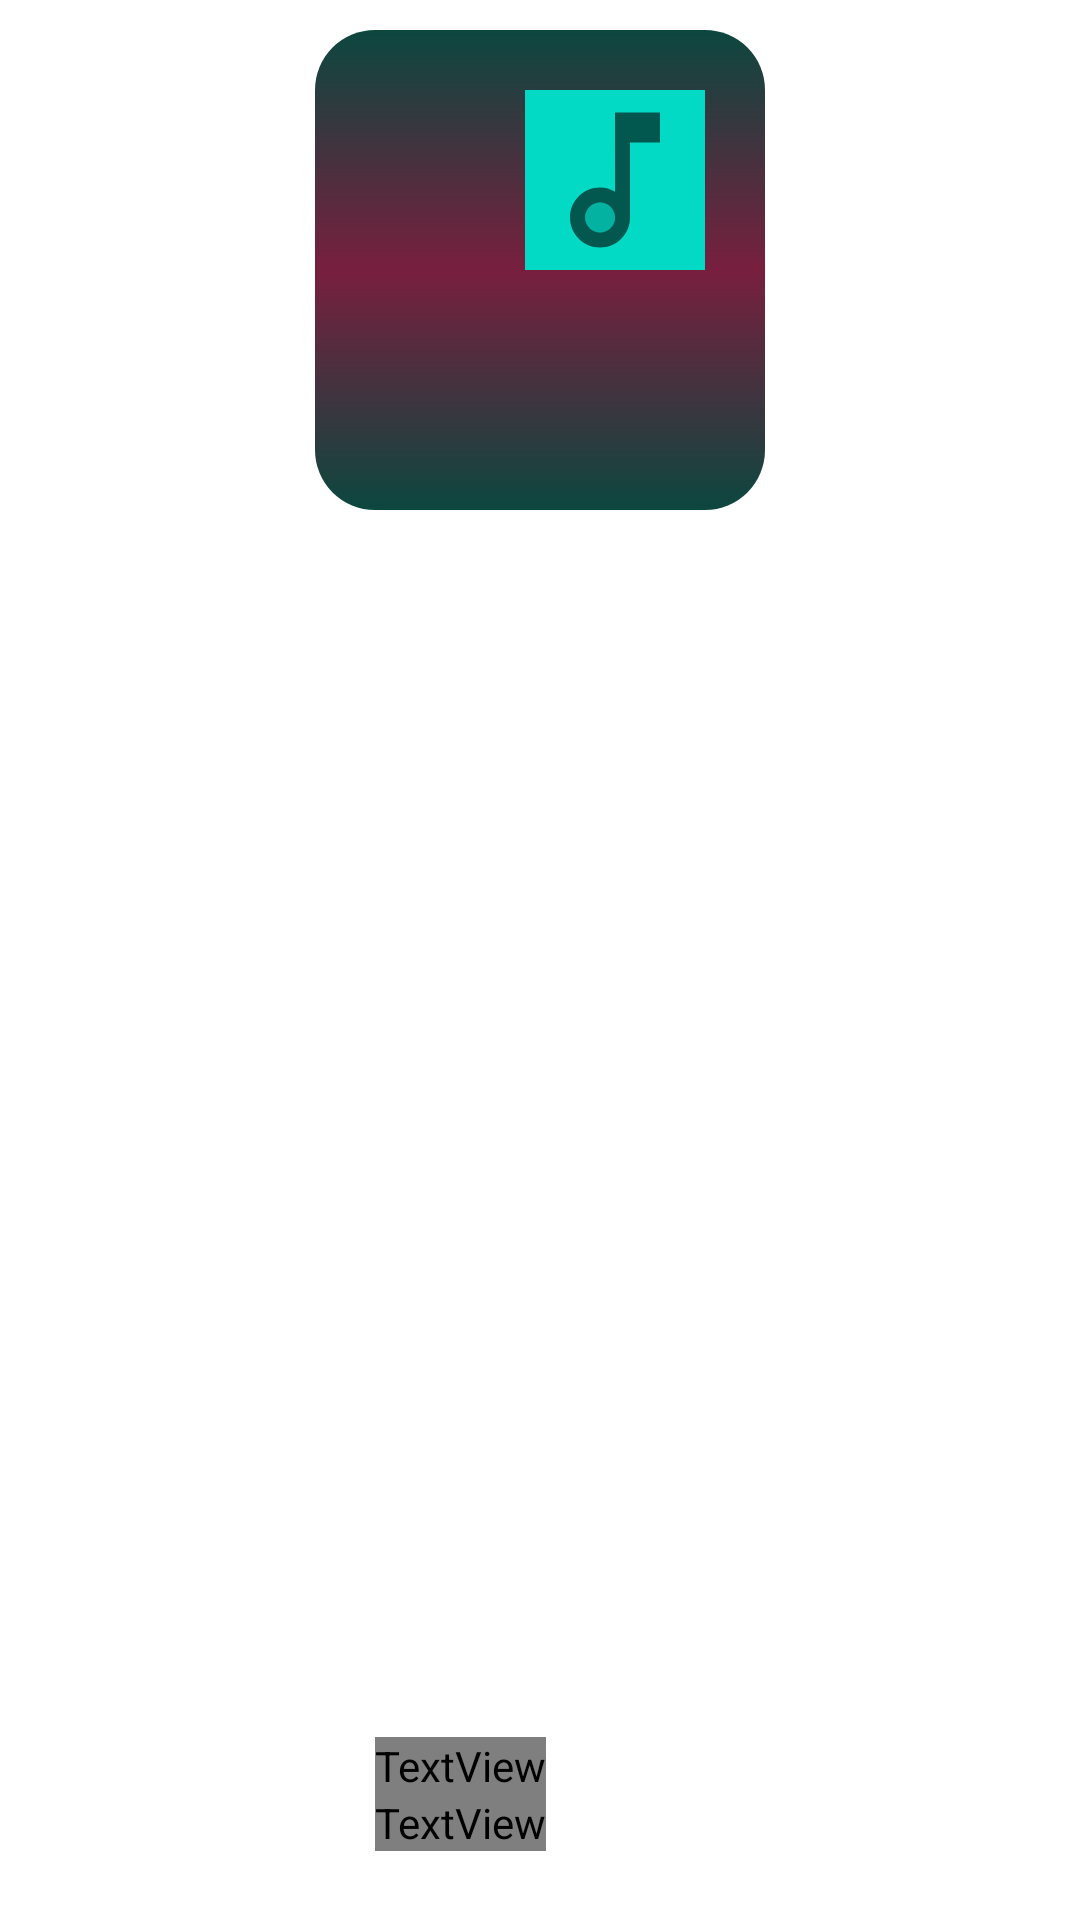

Point at icon controls on the screen. Image size 1080w x 1920h, points as (x=x, y=y).
musictwo ton: (x=615, y=180)
